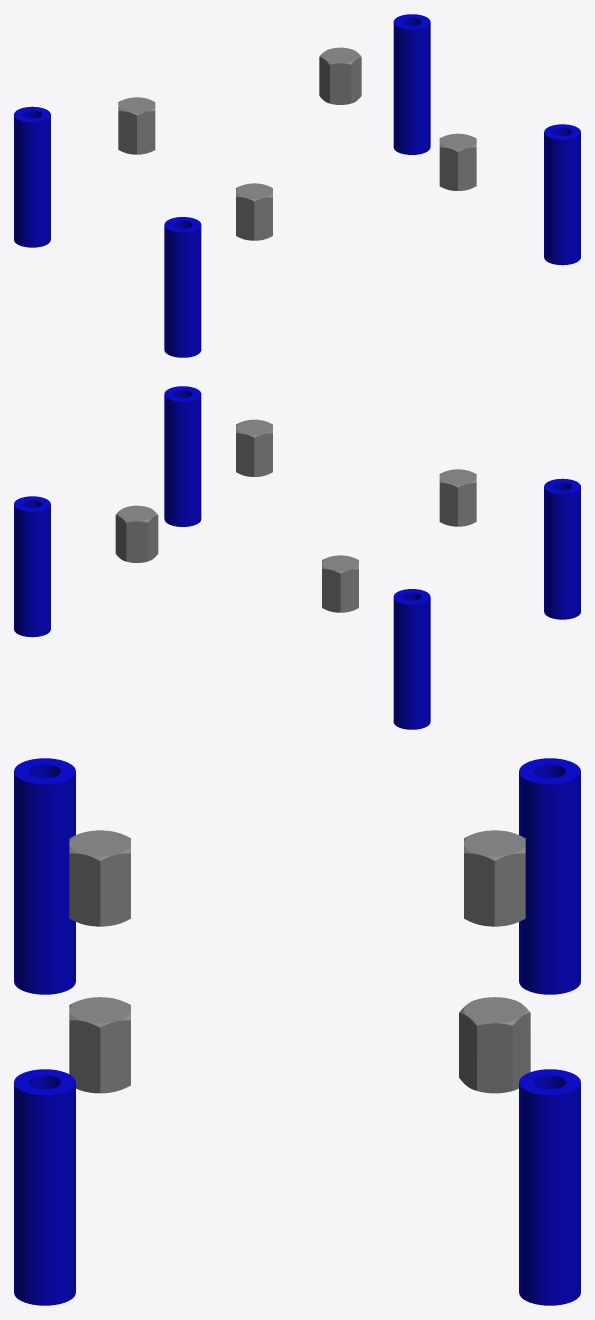
File: standoffs-fc.glb
3 renders of one model, top to bottom at view 1: azimuth 30°, elevation 25°; view 2: azimuth 150°, elevation 25°; view 3: azimuth 270°, elevation 25°, orthographic. The views are drawn at different scales.
Visible parts, largest first — view 1: world; view 2: world; view 3: world.
Boxes of the visible parts, x1,y1,x2,y2 form: world: (14,14,580,357); world: (14,386,580,729); world: (14,758,580,1305).
Bounding box in the file's own units: 0.0515 × 0.015 × 0.0366.
